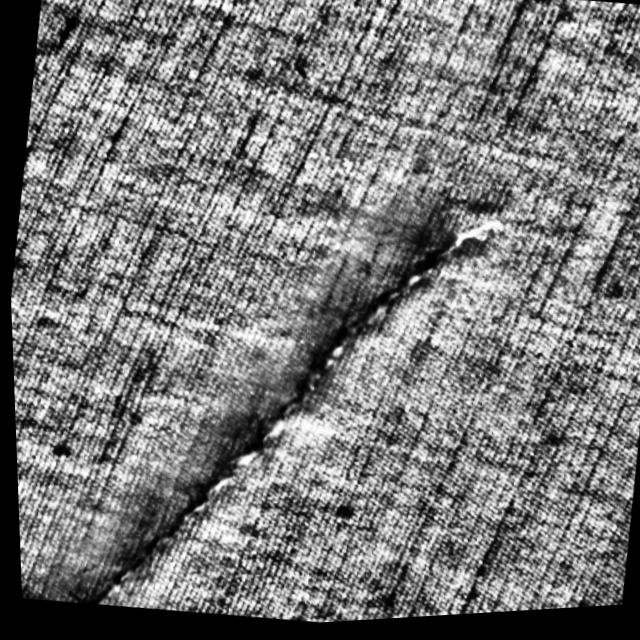Stitch: (50, 166, 510, 638)
